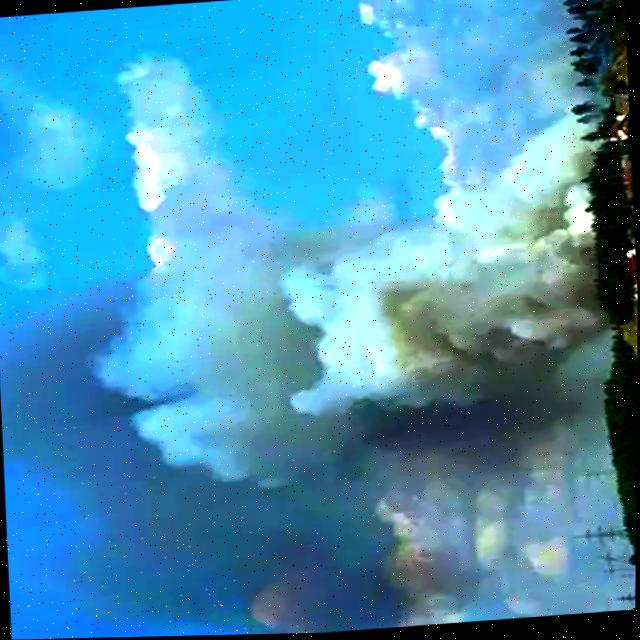Smoke: (59, 113, 608, 510)
